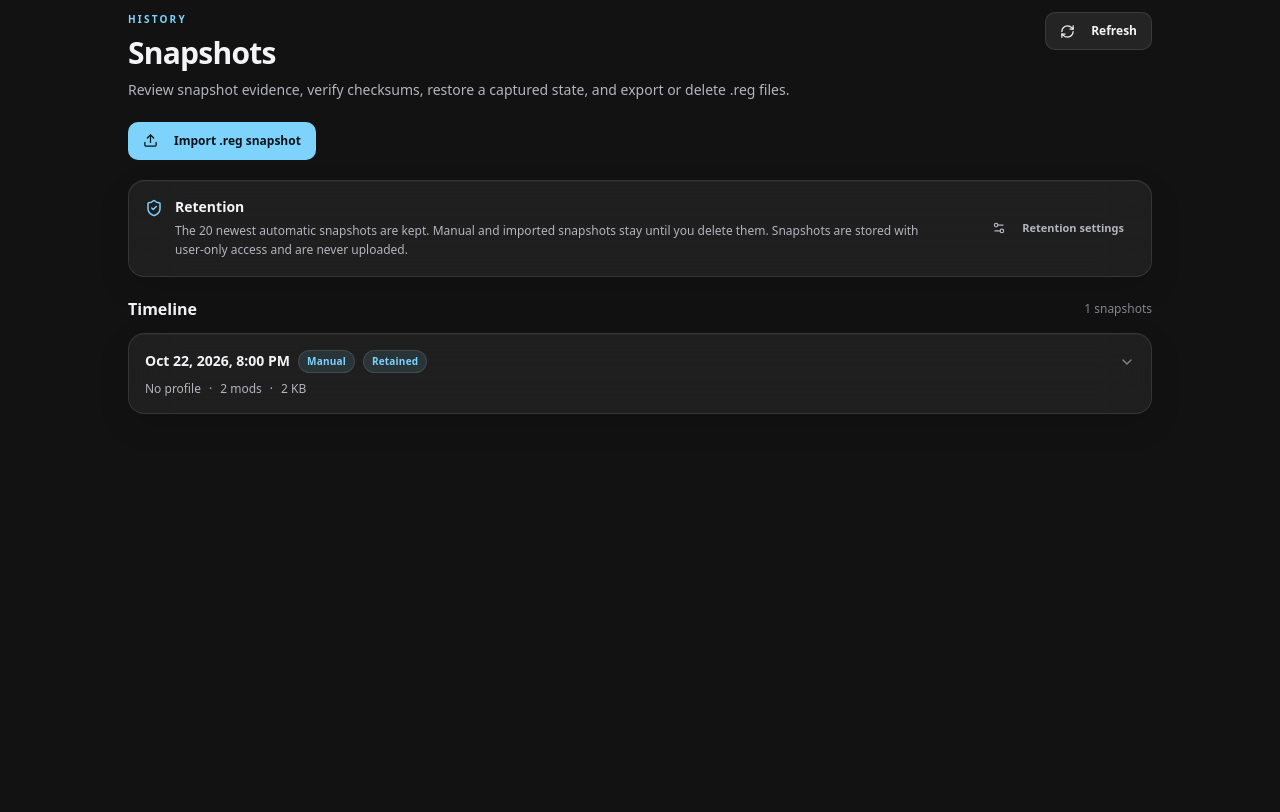
Test: Snapshots › shows an export error
The width and height of the screenshot is (1280, 812).
Click the button with aria-label "Show details for snapshot from Oct 22, 2026, 8:00 PM" at (218, 361), box top-left (129, 334), bottom-right (1151, 413)
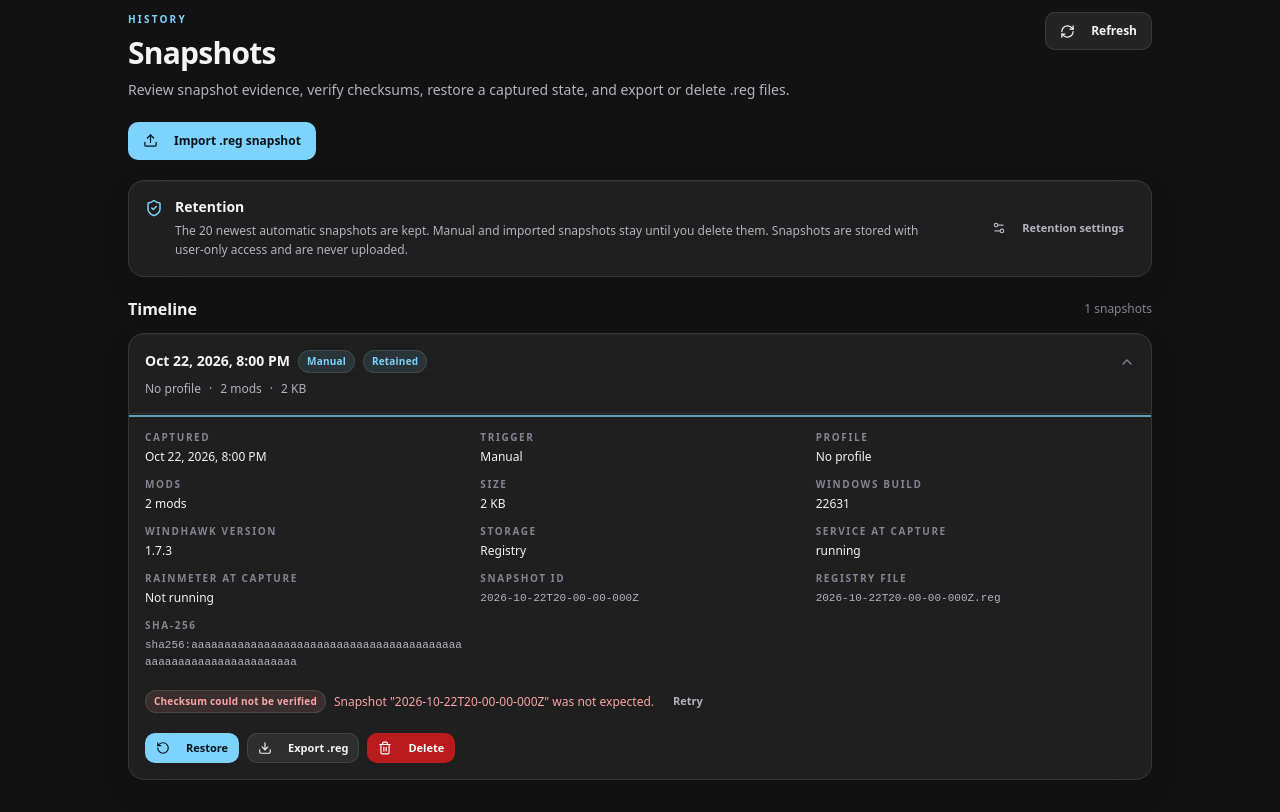
Click the button "Export .reg" at (303, 748), box top-left (247, 733), bottom-right (359, 763)
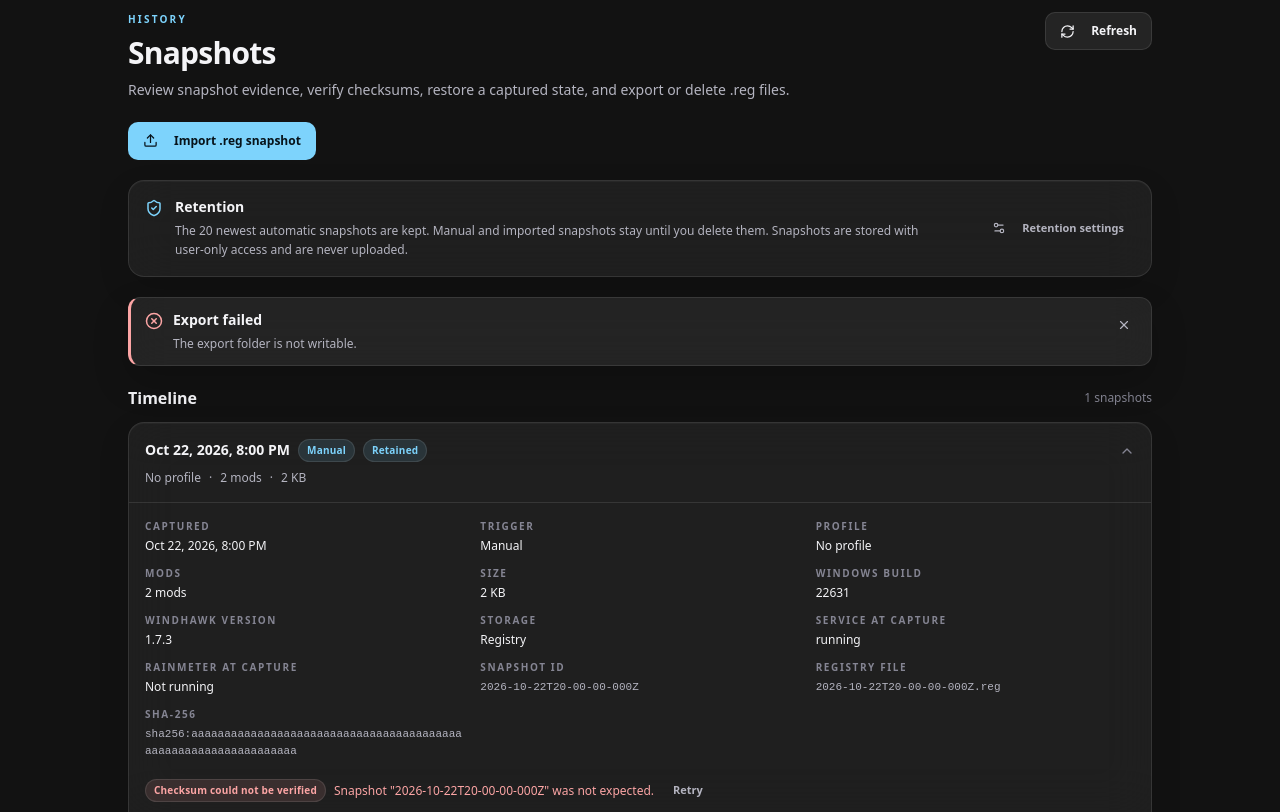
Check: the text "Export failed" is shown, box top-left (173, 310), bottom-right (262, 329)
Check: the text "The export folder is not writable." is shown, box top-left (173, 335), bottom-right (357, 352)
